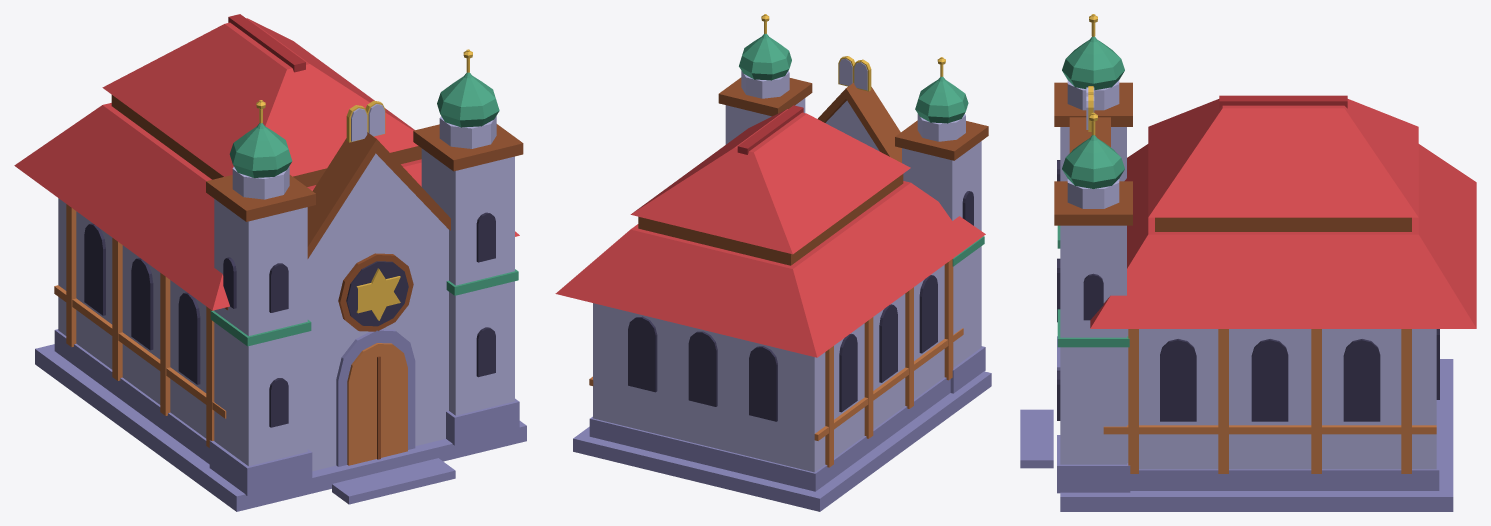
The model's file is synagogue.glb.
3 renders of one model, left to right at view 1: azimuth 30°, elevation 25°; view 2: azimuth 150°, elevation 25°; view 3: azimuth 270°, elevation 25°, orthographic. The views are drawn at different scales.
Visible parts, largest first — view 1: Synagogue; view 2: Synagogue; view 3: Synagogue.
Part boxes in pixels (bbox=[...]): Synagogue: bbox=[14, 14, 526, 511]; Synagogue: bbox=[555, 14, 991, 511]; Synagogue: bbox=[1020, 14, 1476, 511].
Bounding box in the file's own units: 5.2 × 6.28 × 6.85.
